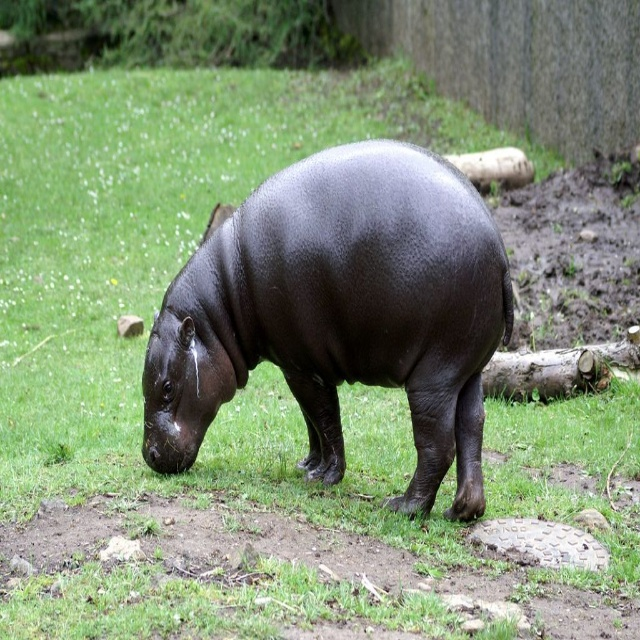Hippopotamus: (142, 139, 514, 522)
